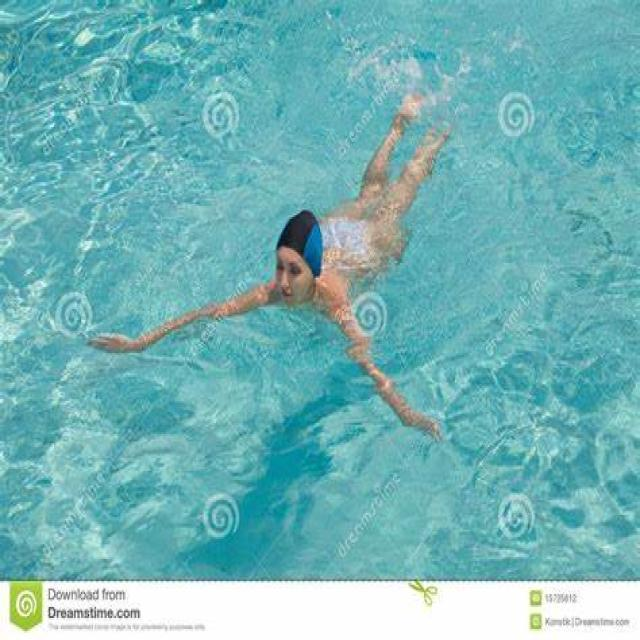Swimming: (82, 90, 448, 445)
